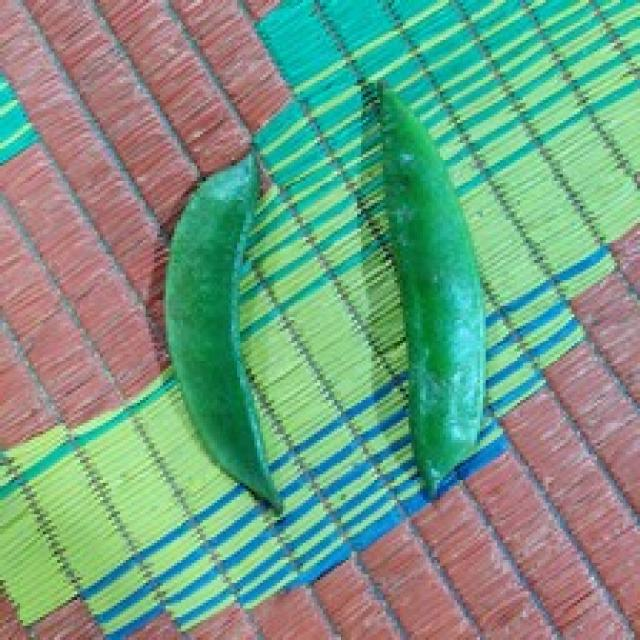Bean: (371, 77, 486, 497), (160, 149, 283, 514)
